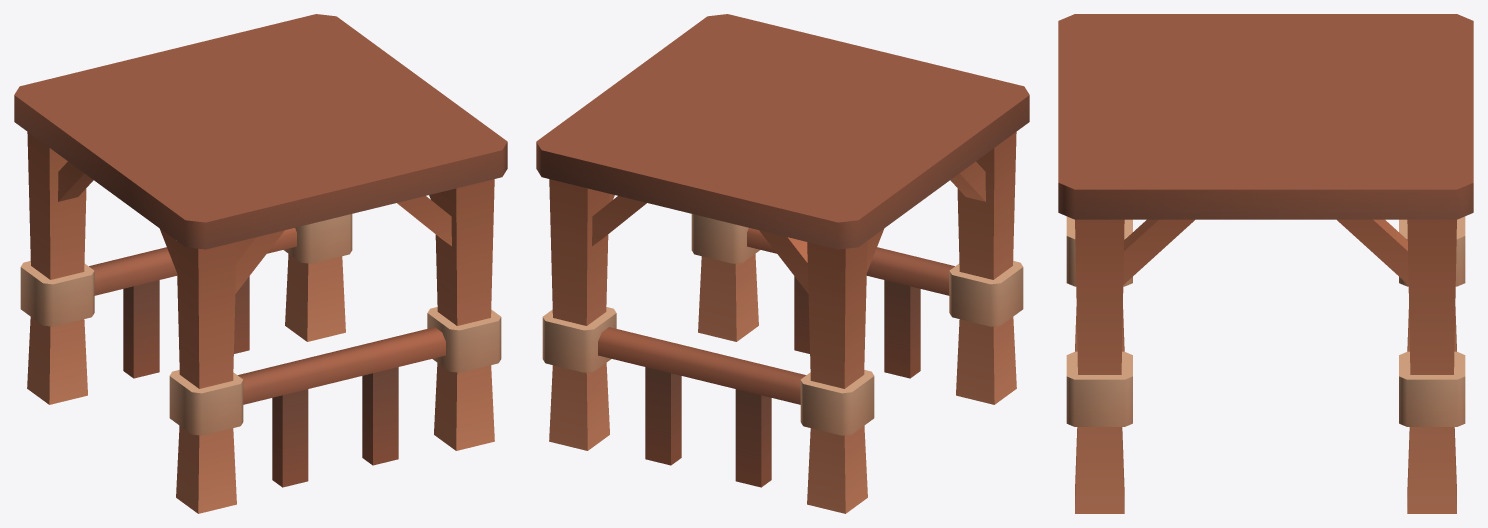
The model's file is structure-fence.glb.
The picture shows the model from 3 angles, left to right: view 1: azimuth 30°, elevation 25°; view 2: azimuth 150°, elevation 25°; view 3: azimuth 270°, elevation 25°; orthographic projection. The views are drawn at different scales.
Parts seen in each view (by area): view 1: structure-fence; view 2: structure-fence; view 3: structure-fence.
Part boxes in pixels (x1,y1,x2,y2): structure-fence: (14, 14, 507, 513); structure-fence: (536, 14, 1029, 513); structure-fence: (1058, 14, 1473, 513).
Bounding box in the file's own units: 2.5 × 2.2 × 2.5.
Materials: 1 (1 with a texture image).
